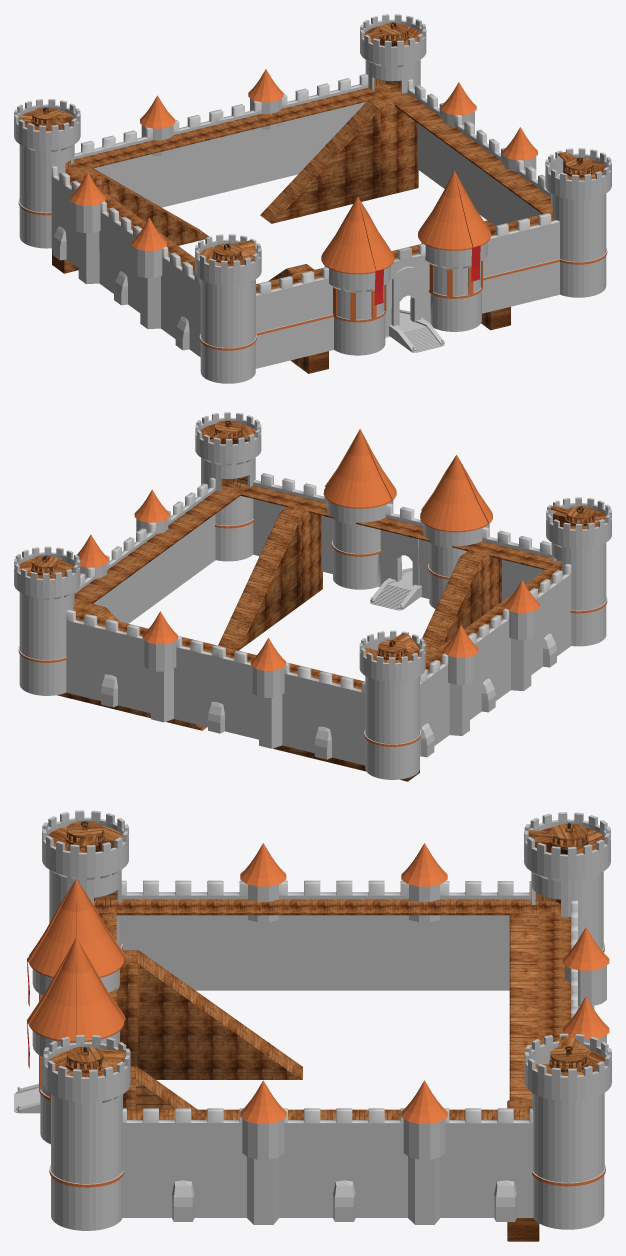
Rendered from castel8.fbx.
The picture shows the model from 3 angles, top to bottom: view 1: azimuth 30°, elevation 25°; view 2: azimuth 150°, elevation 25°; view 3: azimuth 270°, elevation 25°; orthographic projection. The views are drawn at different scales.
Parts seen in each view (by area): view 1: Paredes, Maderas, Torre1, Torre4, Torre2, Torre3, Entrada; view 2: Paredes, Maderas, Torre2, Torre3, Torre1, Torre4, Entrada; view 3: Paredes, Maderas, Torre3, Torre4, Torre2, Torre1, Entrada.
Part boxes in pixels (bbox=[...]): Paredes: bbox=[51, 69, 559, 368]; Maderas: bbox=[52, 84, 552, 373]; Torre1: bbox=[195, 234, 261, 383]; Torre4: bbox=[545, 148, 611, 297]; Torre2: bbox=[14, 99, 80, 248]; Torre3: bbox=[360, 14, 426, 93]; Entrada: bbox=[389, 266, 444, 352]; Paredes: bbox=[66, 429, 571, 765]; Maderas: bbox=[57, 482, 561, 781]; Torre2: bbox=[359, 630, 425, 779]; Torre3: bbox=[14, 546, 80, 695]; Torre1: bbox=[546, 497, 611, 646]; Torre4: bbox=[195, 412, 261, 561]; Entrada: bbox=[370, 533, 421, 610]; Paredes: bbox=[27, 843, 609, 1224]; Maderas: bbox=[94, 899, 570, 1241]; Torre3: bbox=[524, 1033, 611, 1229]; Torre4: bbox=[43, 1035, 130, 1230]; Torre2: bbox=[524, 812, 610, 952]; Torre1: bbox=[42, 810, 128, 949]; Entrada: bbox=[14, 1083, 40, 1113].
Bounding box in the file's own units: 23168 × 9195 × 22402.
